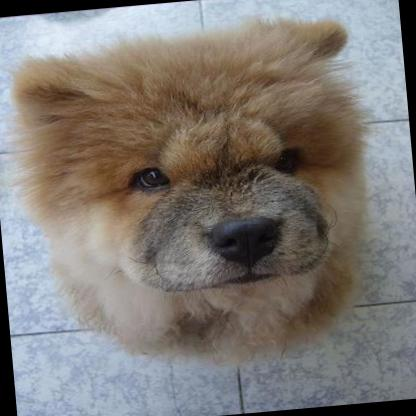chow: (0, 0, 395, 392)
